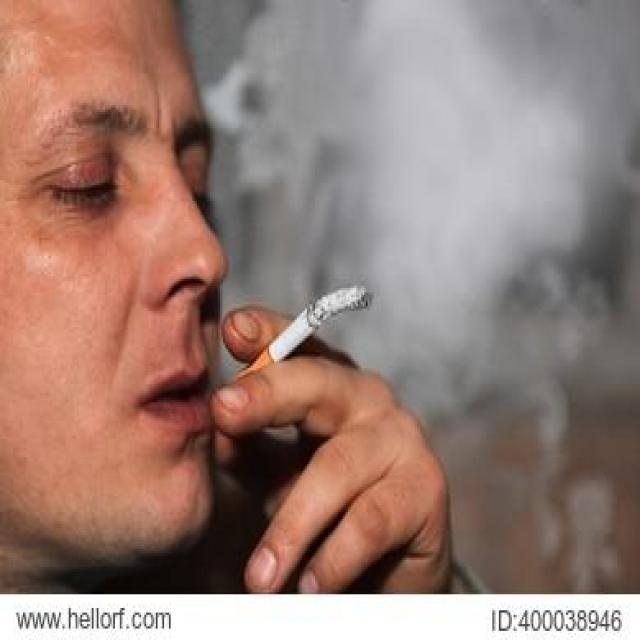Дым: (211, 3, 640, 403)
Сигарета: (222, 284, 370, 404)
Тело: (0, 0, 454, 594)
